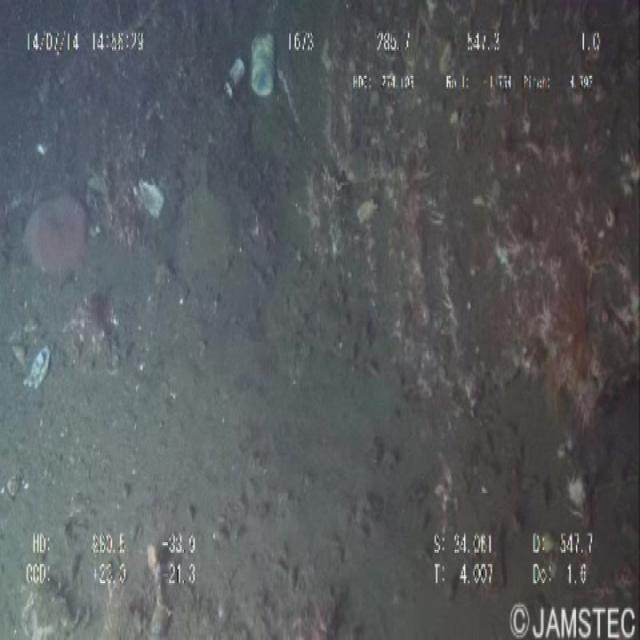Glass: (224, 46, 246, 105)
Litter: (132, 167, 179, 230), (18, 344, 62, 404)
Plastic: (247, 24, 292, 106)
